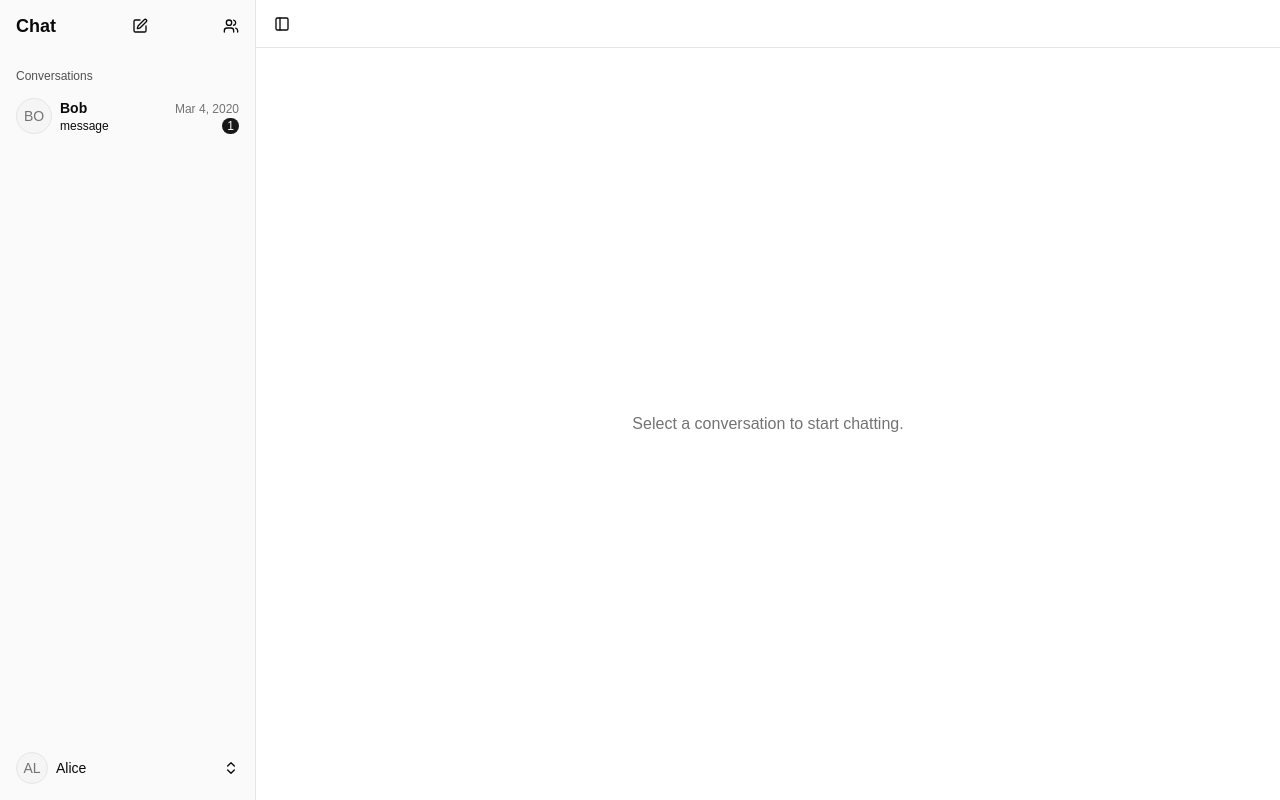
Test: Marking a Conversation as read › sends nothing while the tab is hidden, and marks what arrived meanwhile once it is visible again
Click the button "BO Bob Mar 4, 2020 message 1".
click(128, 116)  # box [8, 92, 247, 140]
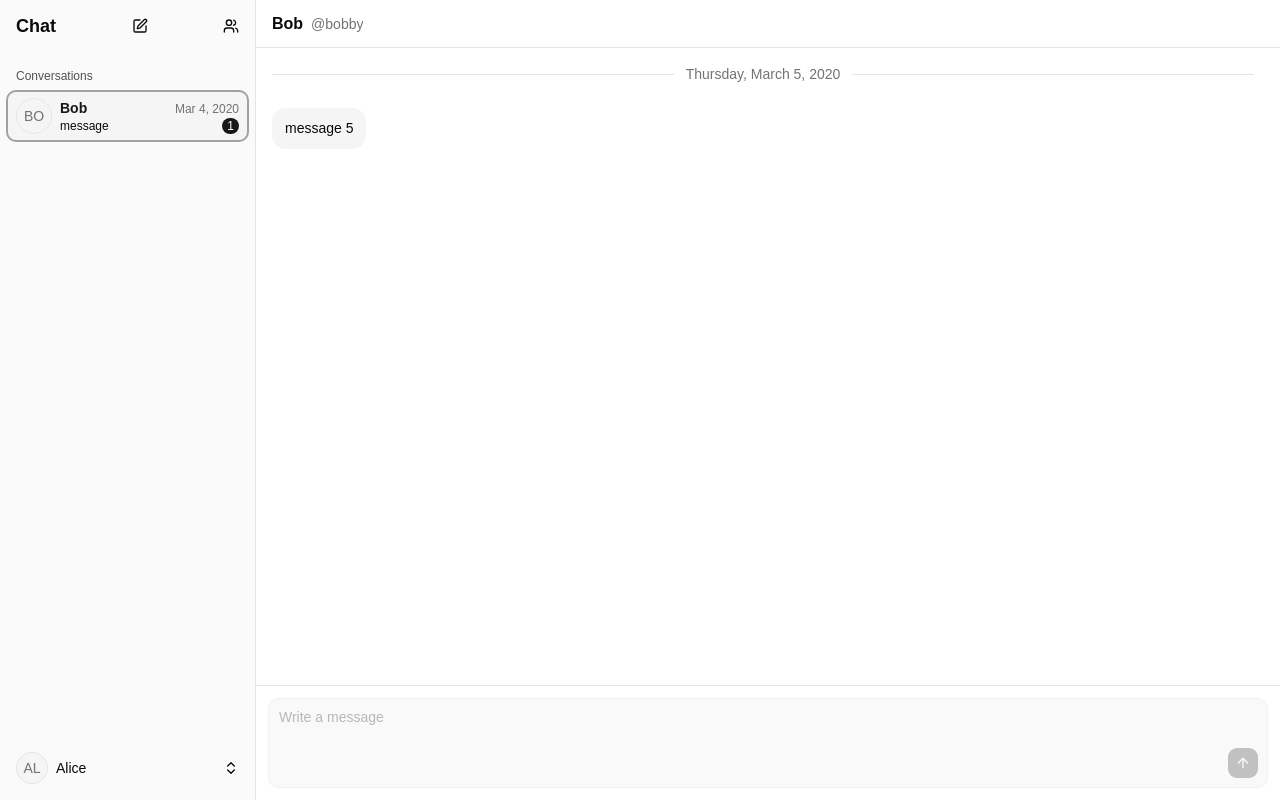
Expected: the button "message 5" is shown, [272, 108, 366, 149]
